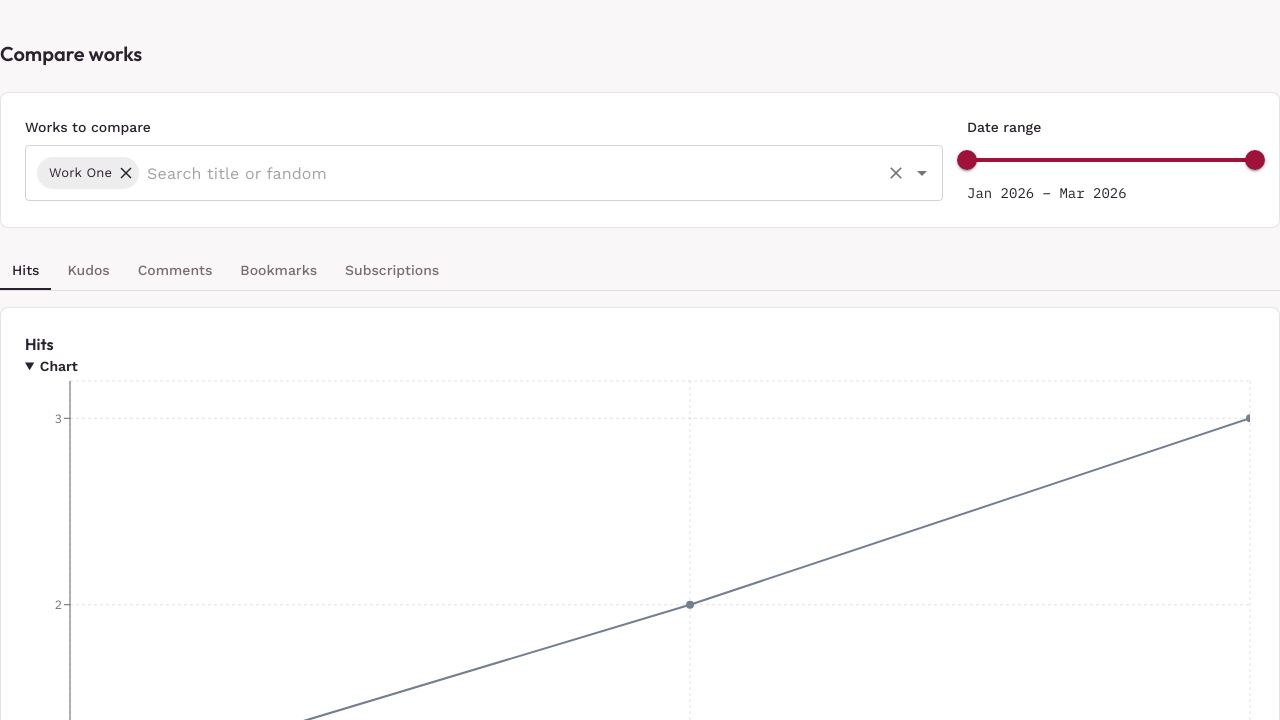
WorkComparisonSection: visible lead-in caption (widened range) › appears once at least one additionally-selected work has a leadIn, even if the first selected work doesn't
This screenshot has width=1280, height=720.
Expected: the text "dashed segments show the period before your first captured stats for a work" is not shown
Click the dropdown labelled "Works to compare" at (510,173), box x1=142 y1=154 x2=878 y2=192
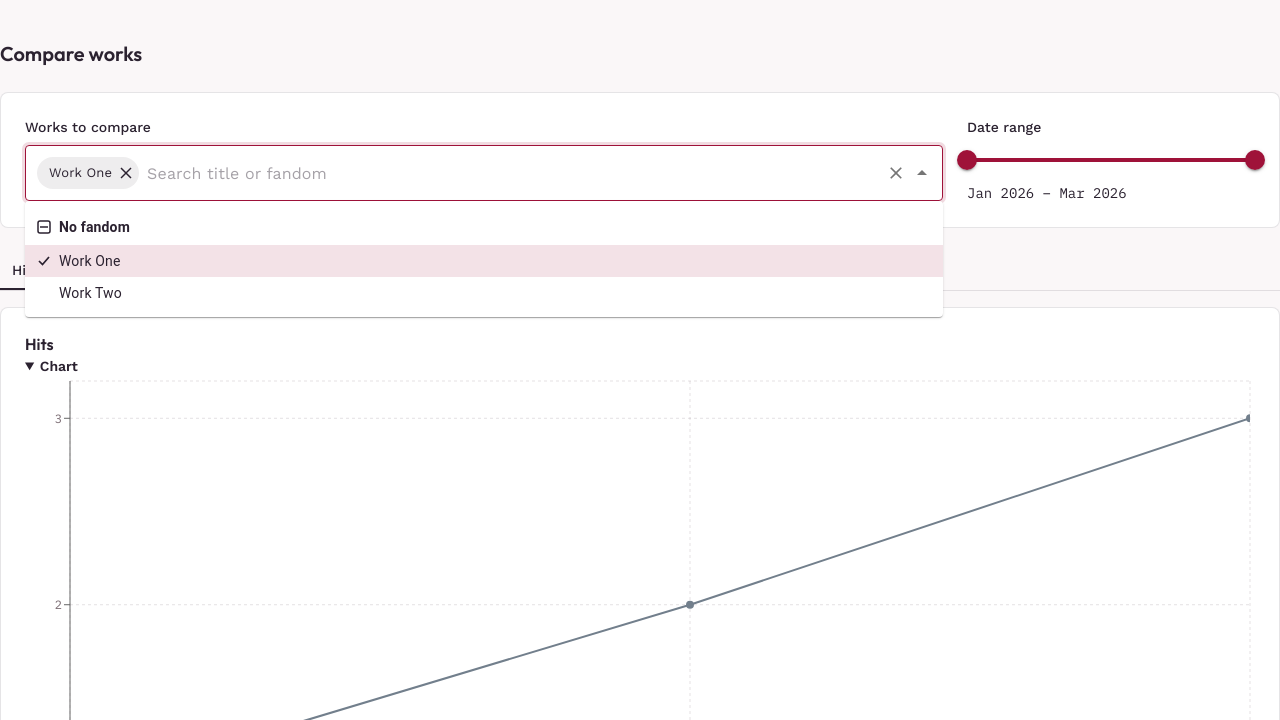
Click the option "Work Two" at (90,293), box x1=59 y1=285 x2=122 y2=301
(page scrolled)
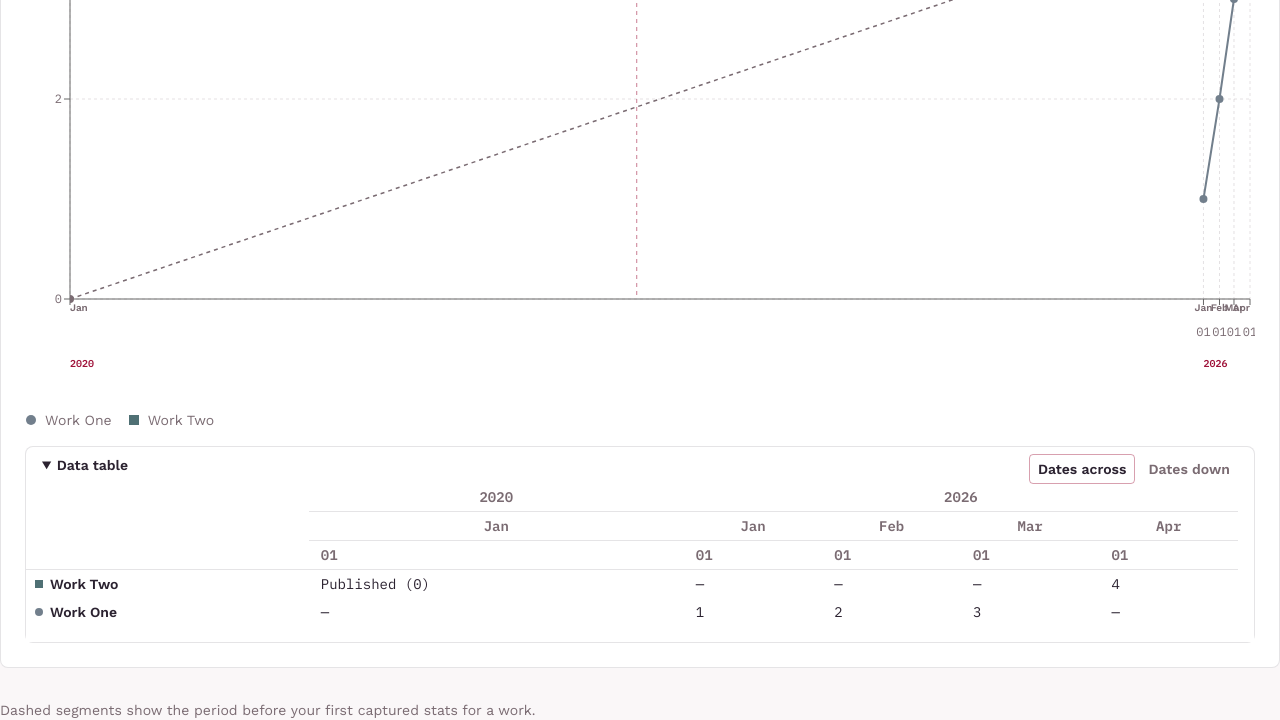
Expected: the text "Dashed segments show the period before your first captured stats for a work" is shown, x1=0 y1=702 x2=536 y2=718
